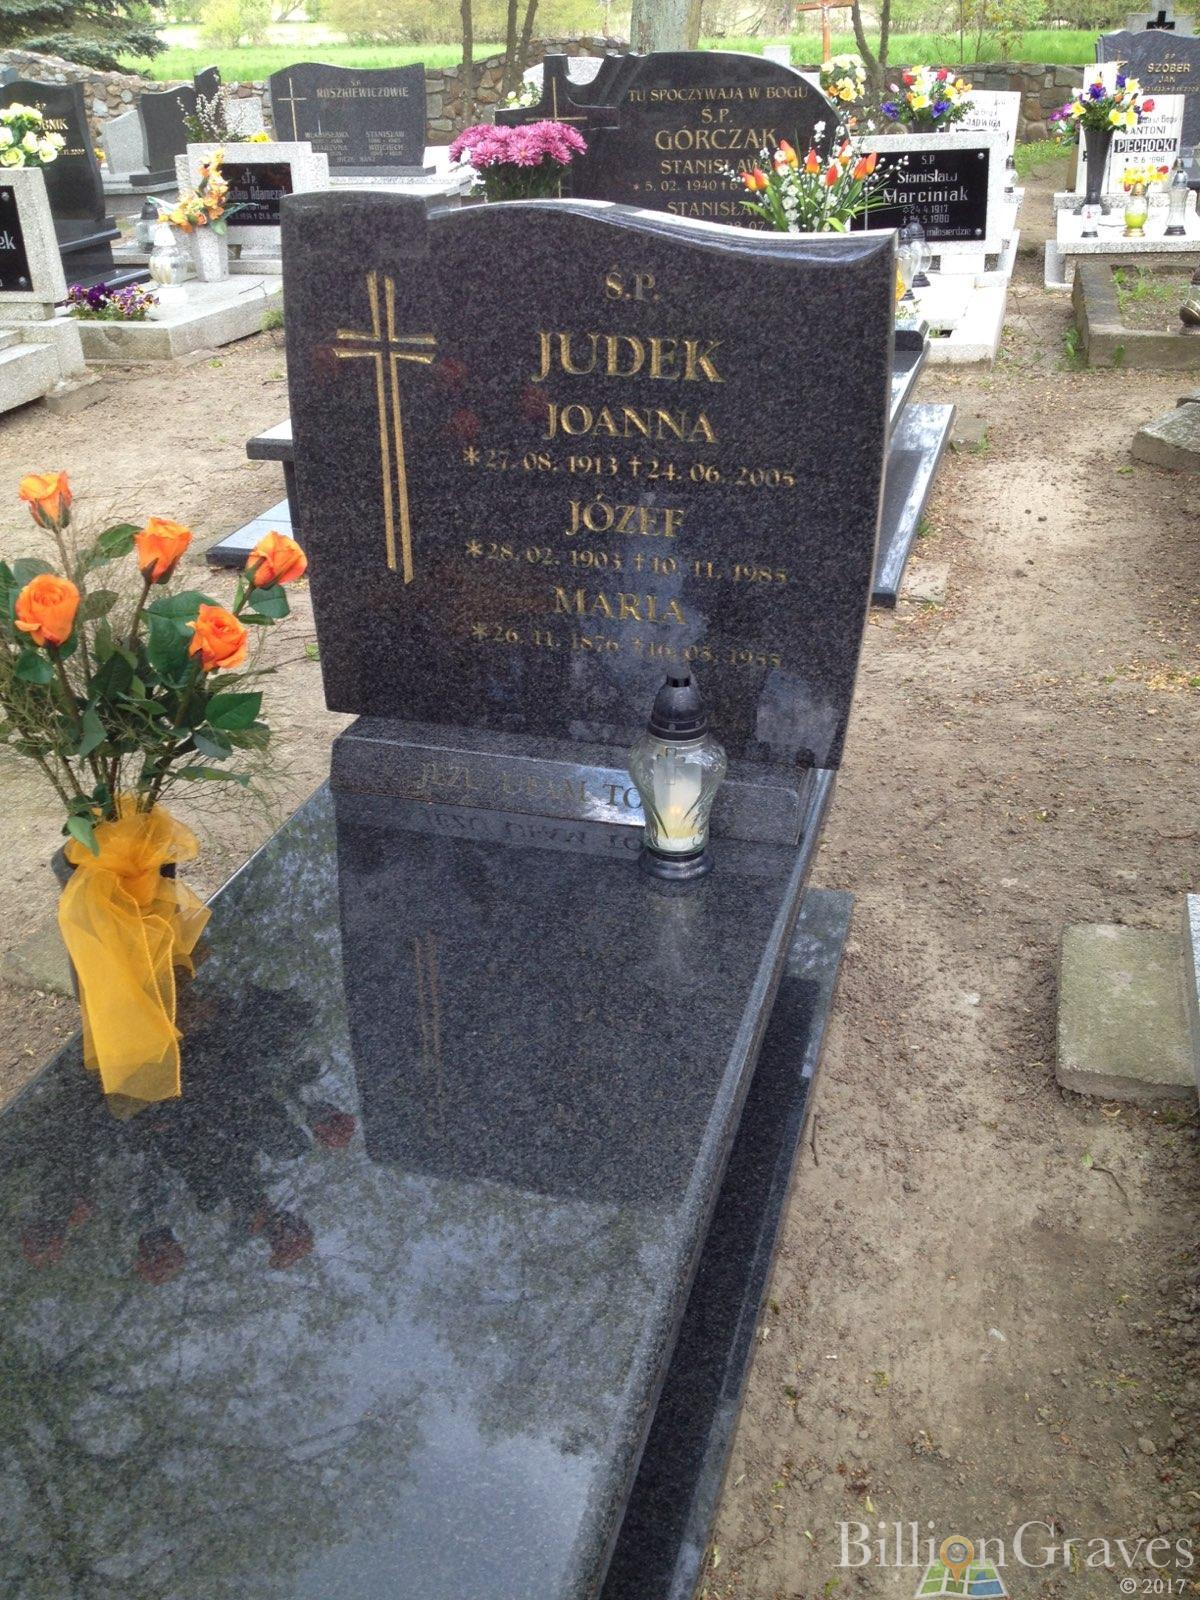vault: (0, 186, 901, 1600)
